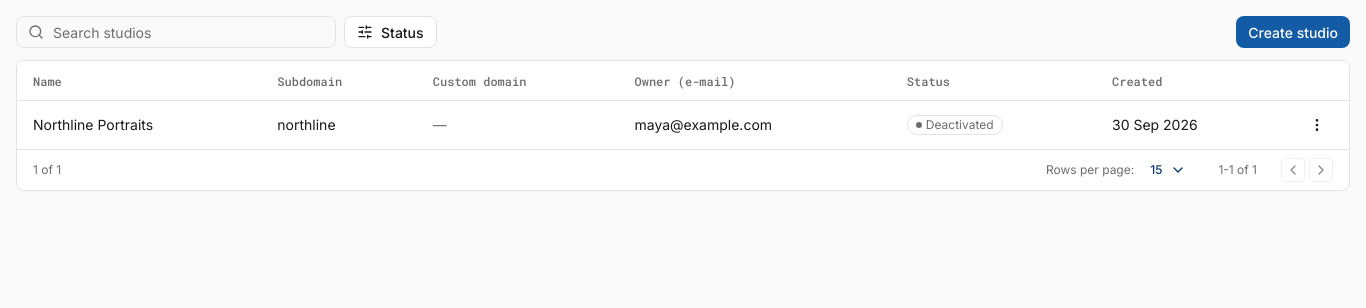
StudiosList: row menu › Activate reloads the list; the row follows the filter
Press Enter in the button named "Actions for Northline Portraits", box x1=1301 y1=109 x2=1333 y2=141
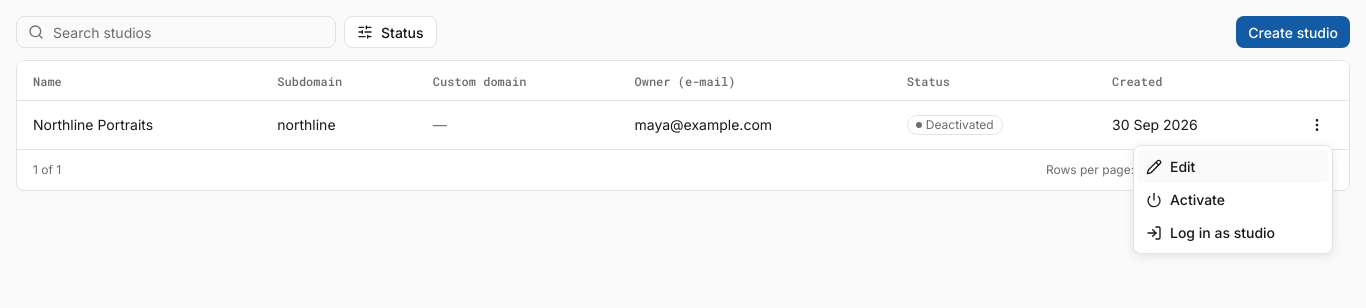
Click the menu item "Activate": (1186, 200) x1=1146 y1=191 x2=1225 y2=208
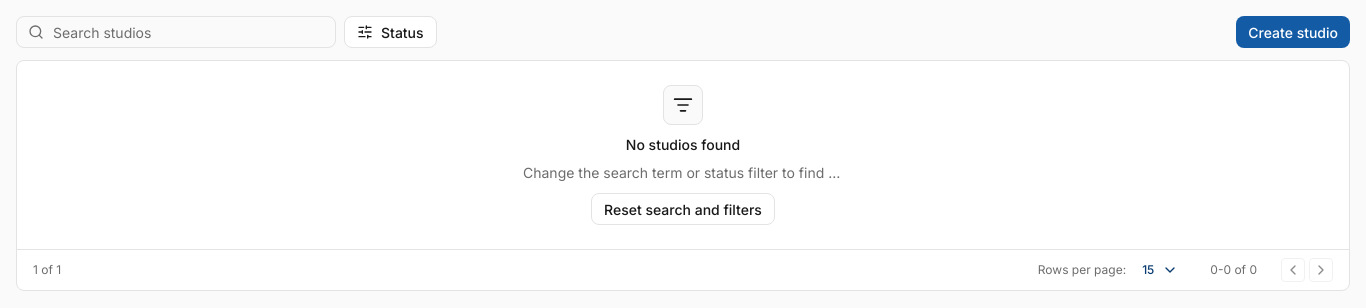
expect the heading "No studios found" is shown: met, box x1=626 y1=137 x2=740 y2=153
